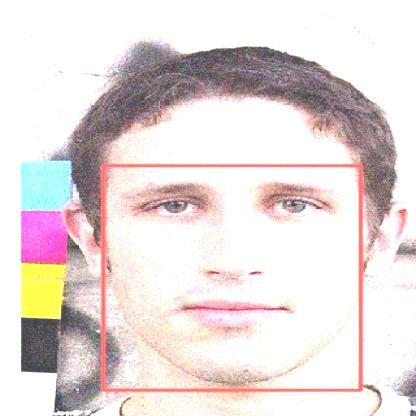without_mask: (103, 165, 360, 390)
